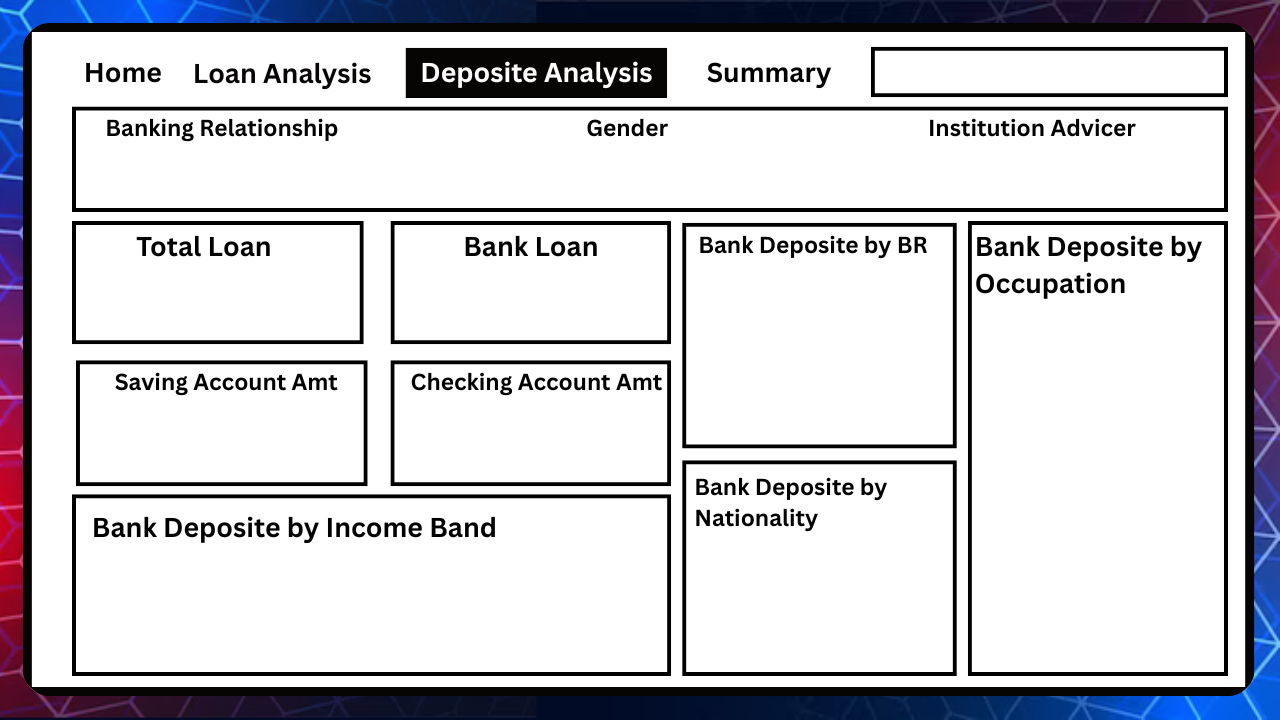

What the dashboard file says about the page in this screenshot:
{"tool":"powerbi","page":{"name":"Deposite Analyse","canvas":[1280,720],"ordinal":3},"visuals":[{"type":"card","fields":{"Values":["banking_case customer.Total Loan"]},"box":[110.8,258.5,193.8,66.2],"z":0},{"type":"card","fields":{"Values":["Sum(banking_case customer.Bank Loans)"]},"box":[424.6,258.5,193.8,66.2],"z":1},{"type":"card","fields":{"Values":["Sum(banking_case customer.Saving Accounts)"]},"box":[110.8,400,193.8,66.2],"z":2},{"type":"card","fields":{"Values":["Sum(banking_case customer.Checking Accounts)"]},"box":[424.6,400,193.8,66.2],"z":3},{"type":"donutChart","fields":{"Category":["banking_case customer.Income Band"],"Y":["banking_case customer.Total Deposite"]},"box":[75.4,546.2,592.3,104.6],"z":4},{"type":"slicer","fields":{"Values":["banking_case customer.BRId"]},"box":[78.5,138.5,432.3,56.9],"z":5},{"type":"slicer","fields":{"Values":["banking_case customer.GenderId"]},"box":[524.6,138.5,315.4,56.9],"z":6},{"type":"slicer","fields":{"Values":["banking_case customer.IAId"]},"box":[856.9,138.5,353.8,56.9],"z":7},{"type":"clusteredColumnChart","fields":{"Category":["banking_case customer.BRId"],"Y":["banking_case customer.Total Deposite"]},"box":[696.9,258.5,252.3,175.4],"z":8},{"type":"clusteredColumnChart","fields":{"Category":["banking_case customer.Nationality"],"Y":["banking_case customer.Total Deposite"]},"box":[696.9,530.8,252.3,132.3],"z":9},{"type":"clusteredColumnChart","fields":{"Category":["banking_case customer.Occupation"],"Y":["banking_case customer.Total Deposite"]},"box":[978.5,304.6,232.3,358.5],"z":10},{"type":"actionButton","box":[173.8,46.2,215.4,50.8],"z":11},{"type":"actionButton","box":[73.8,52.3,100,40],"z":12},{"type":"actionButton","box":[696.9,52.3,143.1,40],"z":13}]}

Visuals, with their boxes in screenshot pixels (x1, y1, x2, y2), scaled from the page's 1280x720 canvas onto the 1280x720 screenshot:
card - banking_case customer.Total Loan: {"left": 111, "top": 258, "right": 305, "bottom": 325}
card - Sum(banking_case customer.Bank Loans): {"left": 425, "top": 258, "right": 618, "bottom": 325}
card - Sum(banking_case customer.Saving Accounts): {"left": 111, "top": 400, "right": 305, "bottom": 466}
card - Sum(banking_case customer.Checking Accounts): {"left": 425, "top": 400, "right": 618, "bottom": 466}
donutChart - banking_case customer.Income Band x banking_case customer.Total Deposite: {"left": 75, "top": 546, "right": 668, "bottom": 651}
slicer - banking_case customer.BRId: {"left": 78, "top": 138, "right": 511, "bottom": 195}
slicer - banking_case customer.GenderId: {"left": 525, "top": 138, "right": 840, "bottom": 195}
slicer - banking_case customer.IAId: {"left": 857, "top": 138, "right": 1211, "bottom": 195}
clusteredColumnChart - banking_case customer.BRId x banking_case customer.Total Deposite: {"left": 697, "top": 258, "right": 949, "bottom": 434}
clusteredColumnChart - banking_case customer.Nationality x banking_case customer.Total Deposite: {"left": 697, "top": 531, "right": 949, "bottom": 663}
clusteredColumnChart - banking_case customer.Occupation x banking_case customer.Total Deposite: {"left": 978, "top": 305, "right": 1211, "bottom": 663}
actionButton: {"left": 174, "top": 46, "right": 389, "bottom": 97}
actionButton: {"left": 74, "top": 52, "right": 174, "bottom": 92}
actionButton: {"left": 697, "top": 52, "right": 840, "bottom": 92}
